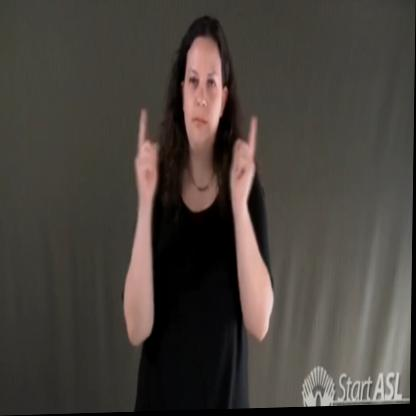NiceToMeetYou: (123, 96, 262, 235)
